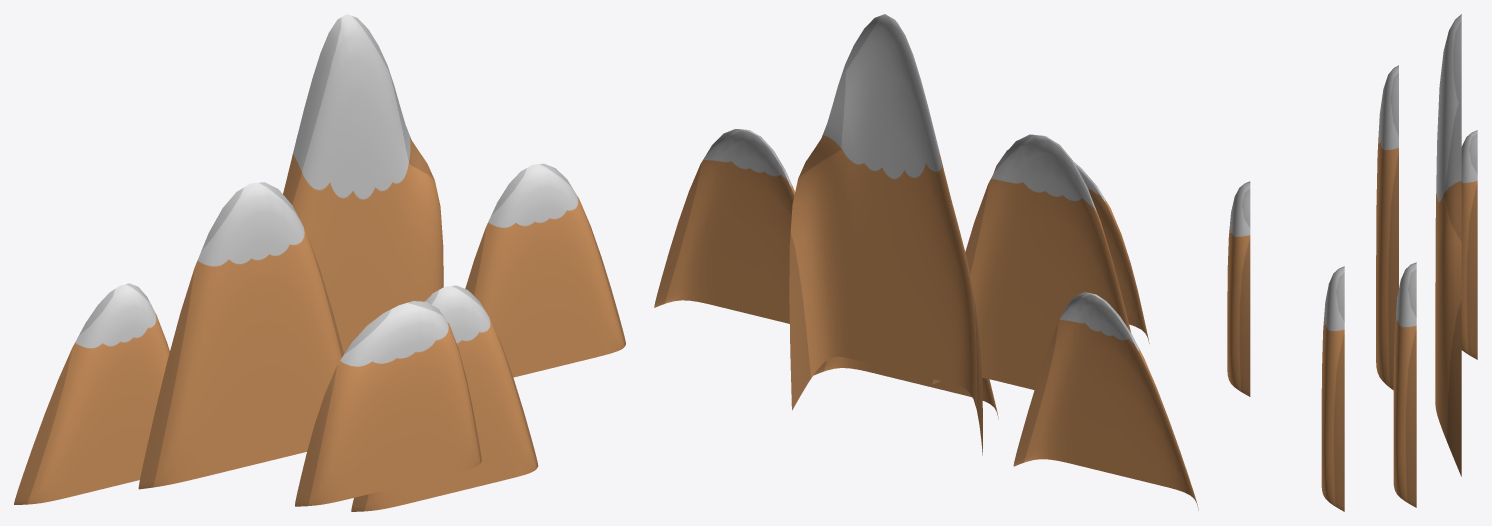
Rendered from Mountain2.FBX.
3 renders of one model, left to right at view 1: azimuth 30°, elevation 25°; view 2: azimuth 150°, elevation 25°; view 3: azimuth 270°, elevation 25°, orthographic.
Parts seen in each view (by area): view 1: Plane030, Plane028, Plane032, Plane027, Plane031, Plane029; view 2: Plane028, Plane030, Plane031, Plane027, Plane032, Plane029; view 3: Plane028, Plane030, Plane027, Plane029, Plane032, Plane031.
Boxes of the visible parts, bbox=[...] form: Plane030: bbox=[138, 182, 343, 489]; Plane028: bbox=[283, 14, 443, 353]; Plane032: bbox=[295, 301, 481, 506]; Plane027: bbox=[465, 163, 625, 377]; Plane031: bbox=[14, 283, 169, 504]; Plane029: bbox=[351, 285, 538, 511]; Plane028: bbox=[789, 14, 982, 455]; Plane030: bbox=[932, 134, 1130, 389]; Plane031: bbox=[1013, 292, 1198, 510]; Plane027: bbox=[654, 129, 794, 323]; Plane032: bbox=[994, 149, 1149, 343]; Plane029: bbox=[813, 356, 998, 419]; Plane028: bbox=[1435, 14, 1461, 476]; Plane030: bbox=[1376, 65, 1398, 390]; Plane027: bbox=[1393, 262, 1416, 507]; Plane029: bbox=[1321, 266, 1344, 511]; Plane032: bbox=[1227, 181, 1250, 396]; Plane031: bbox=[1461, 130, 1477, 359].
Bounding box in the file's own units: 4543 × 3296 × 1724.
Materials: 2 (2 with a texture image).
